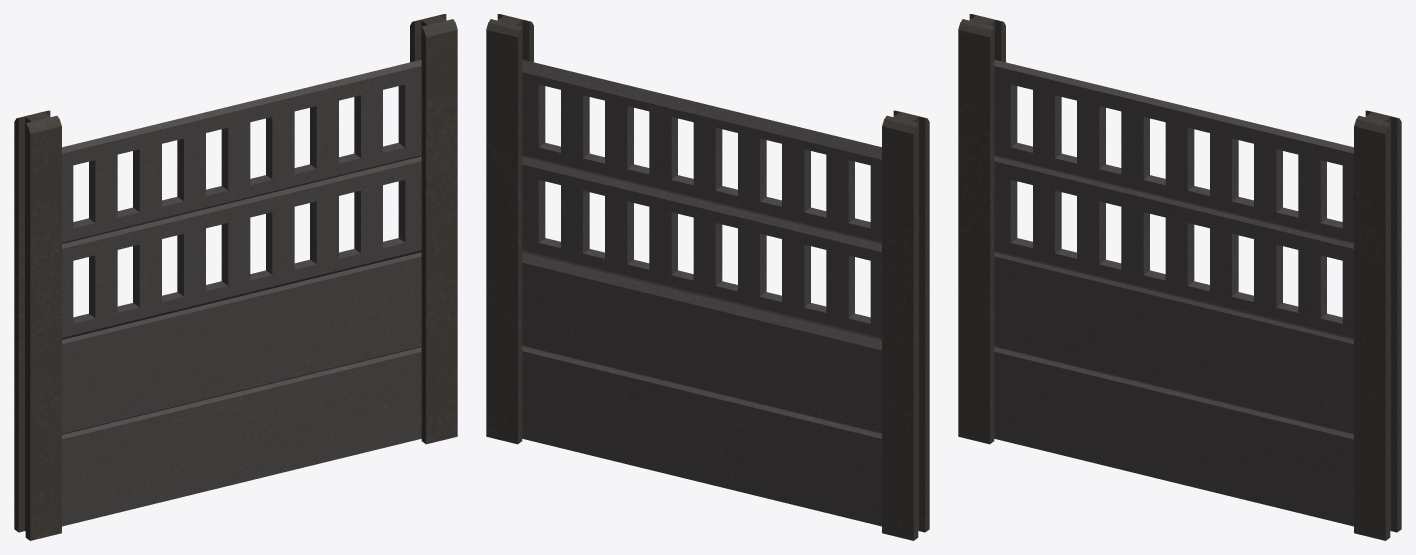
The model's file is beton-plot.fbx.
3 renders of one model, left to right at view 1: azimuth 30°, elevation 25°; view 2: azimuth 150°, elevation 25°; view 3: azimuth 330°, elevation 25°, orthographic.
Visible parts, largest first — view 1: Cube; view 2: Cube; view 3: Cube.
Boxes of the visible parts, bbox=[...] form: Cube: bbox=[14, 14, 457, 540]; Cube: bbox=[486, 14, 929, 540]; Cube: bbox=[958, 14, 1401, 540].
Bounding box in the file's own units: 216 × 201 × 14.09.
